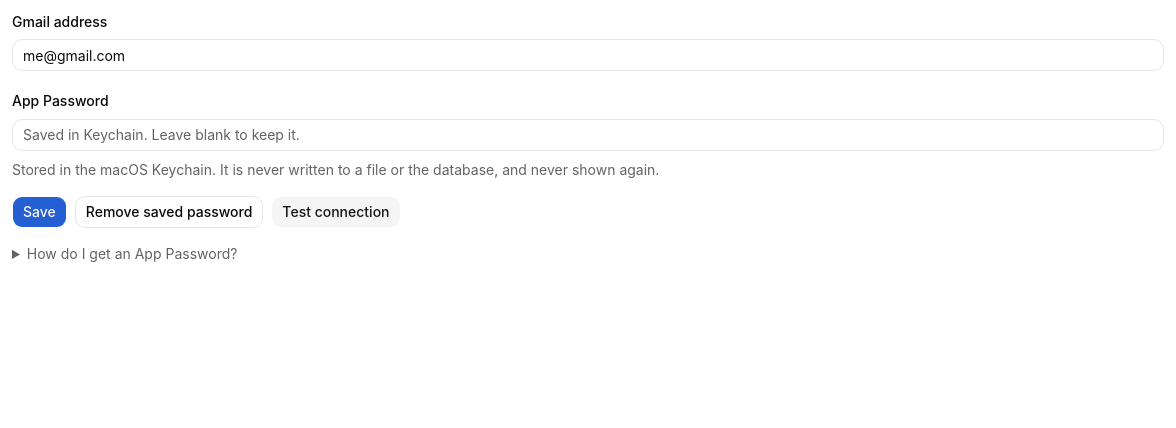
Test: GmailForm › shows SMTP and IMAP results from the connection test
Click the button "Test connection": (336, 212) [271,196,401,228]
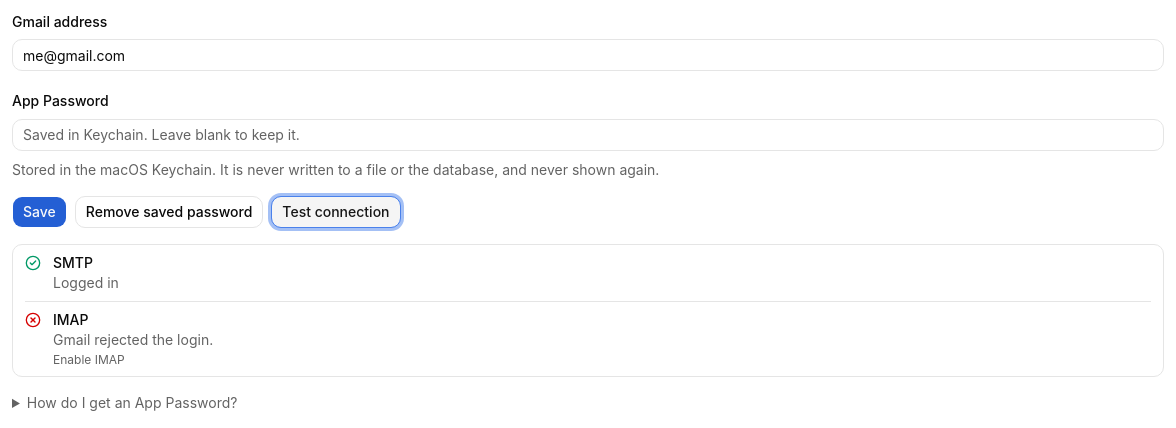
Expected: the element with test id "check-smtp" shows "Logged in", [53,274,119,290]
Expected: the element with test id "check-imap" shows "Gmail rejected the login.", [53,330,213,348]
Expected: the element with test id "check-imap" shows "Enable IMAP", [53,352,125,366]
